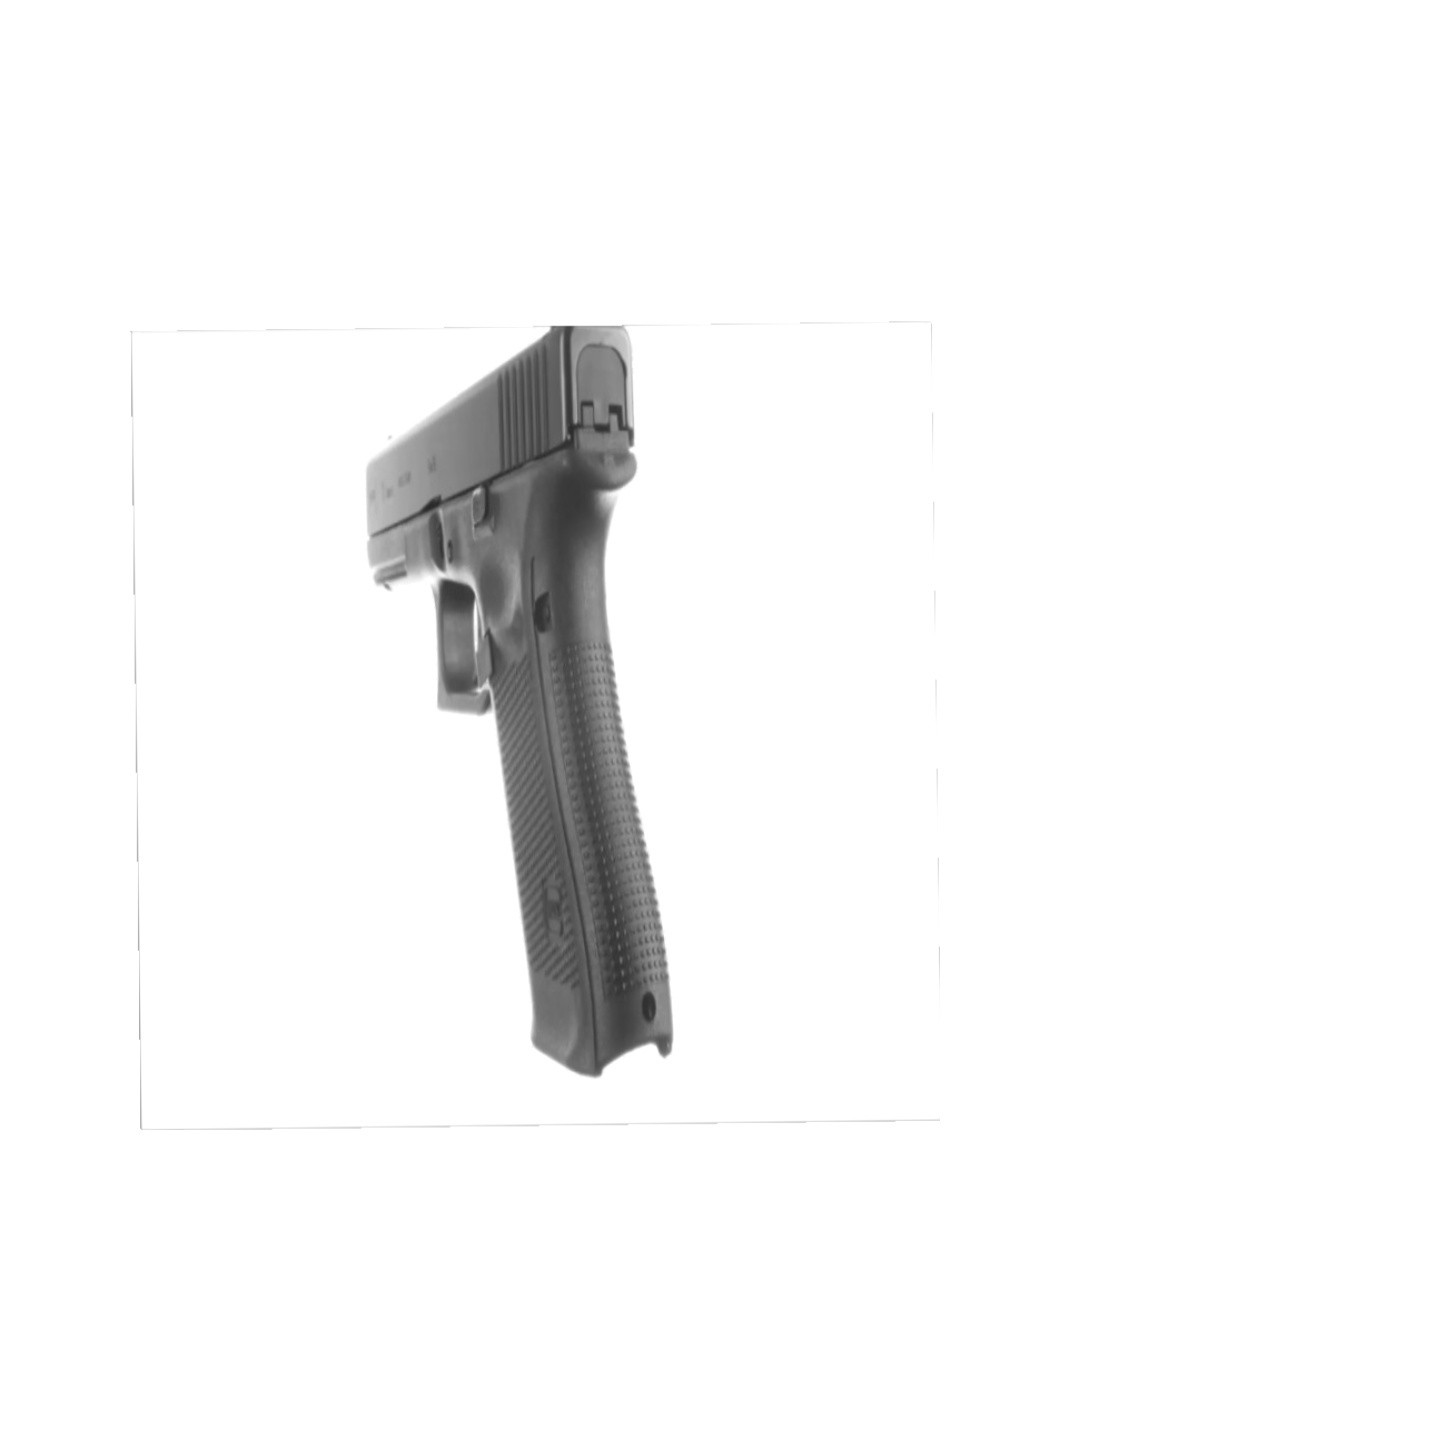gun: (346, 329, 715, 1090)
